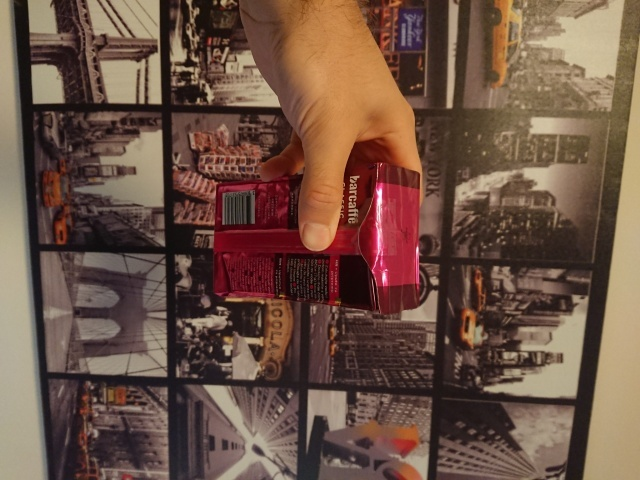Barcaffe Classic Original 225g: (210, 159, 423, 317)
